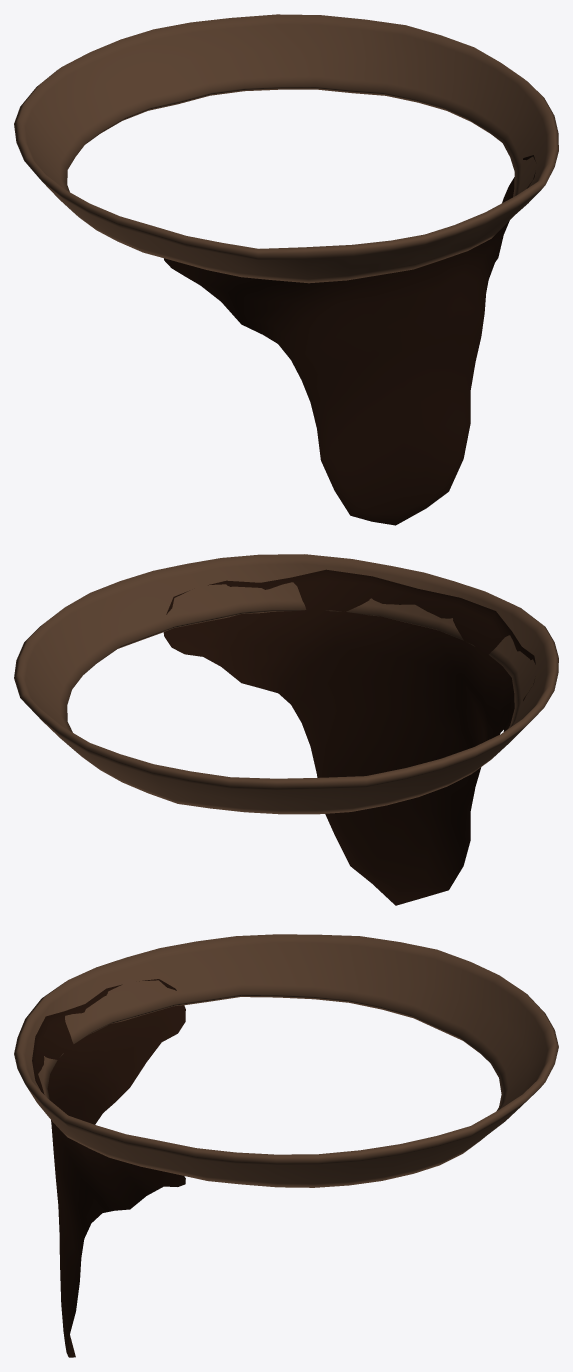
Rendered from OniCloth.fbx.
The picture shows the model from 3 angles, top to bottom: view 1: azimuth 30°, elevation 25°; view 2: azimuth 150°, elevation 25°; view 3: azimuth 270°, elevation 25°; orthographic projection.
Parts seen in each view (by area): view 1: Belt_Retop, Cloth_Retop; view 2: Cloth_Retop, Belt_Retop; view 3: Belt_Retop, Cloth_Retop.
Part boxes in pixels (x1=…): Belt_Retop: x1=14, y1=14, x2=558, y2=283; Cloth_Retop: x1=164, y1=155, x2=535, y2=525; Cloth_Retop: x1=163, y1=569, x2=535, y2=905; Belt_Retop: x1=14, y1=554, x2=558, y2=814; Belt_Retop: x1=14, y1=934, x2=558, y2=1187; Cloth_Retop: x1=32, y1=979, x2=185, y2=1357.
Size of the model in its own units: 0.3838 by 0.2508 by 0.3934.
